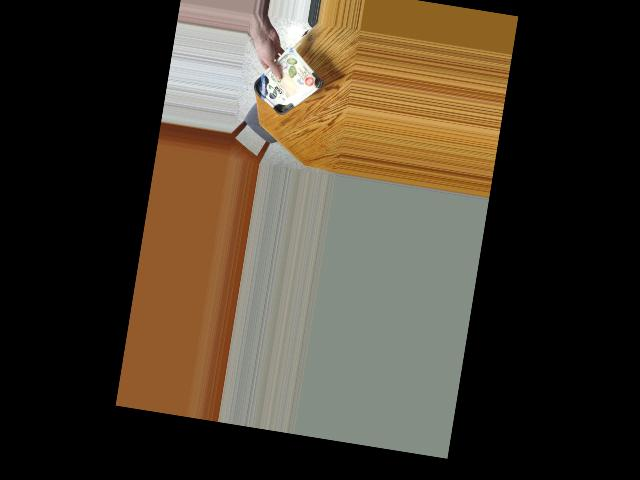cheese: (255, 54, 318, 119)
